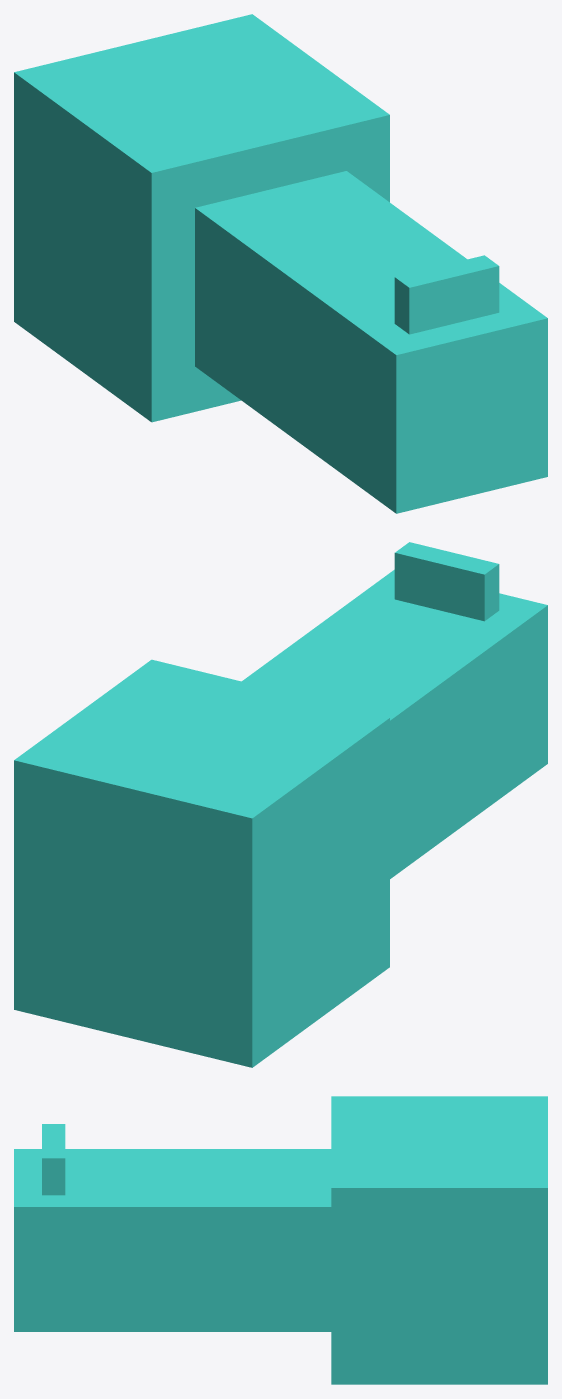
The model's file is lasgun.gltf.
3 renders of one model, top to bottom at view 1: azimuth 30°, elevation 25°; view 2: azimuth 150°, elevation 25°; view 3: azimuth 270°, elevation 25°, orthographic. The views are drawn at different scales.
Parts seen in each view (by area): view 1: Cube; view 2: Cube; view 3: Cube.
Part boxes in pixels (x1,y1,x2,y2): Cube: (14,14,547,513); Cube: (14,542,547,1067); Cube: (14,1096,547,1384).
Bounding box in the file's own units: 0.02 × 0.0201 × 0.0493.
